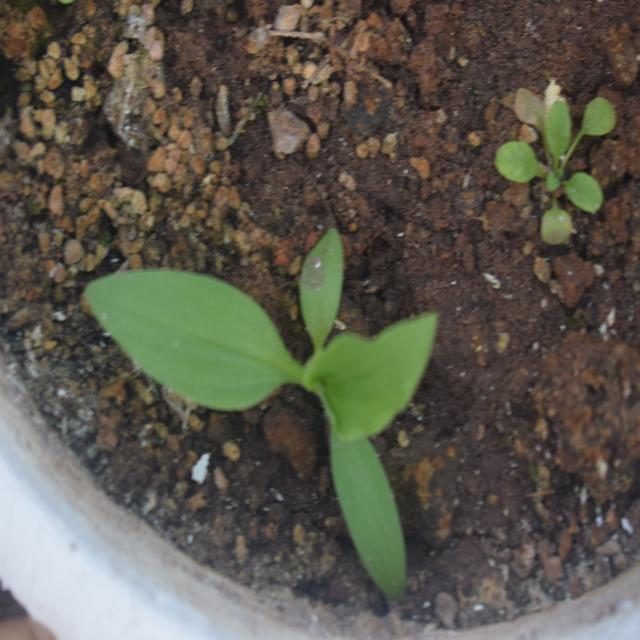Common Dayflower: (100, 207, 420, 564)
